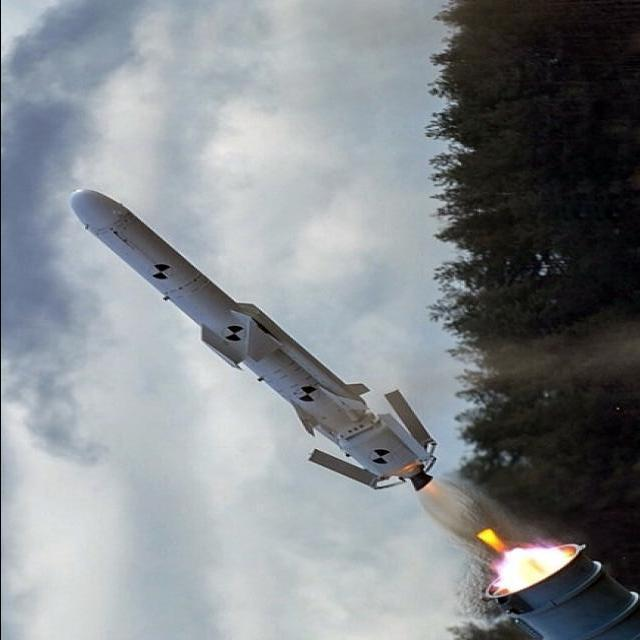missile: (70, 189, 443, 497)
